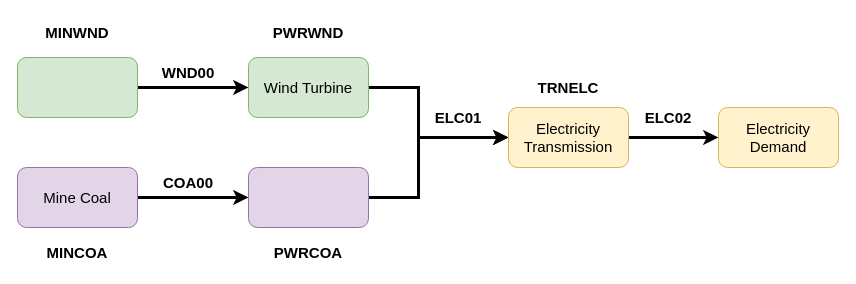
The diagram is 856 pixels wide and 284 high, and some of its shapes have lost their labels. The centre of each missing label's shape, as x and y in pixels:
Coal Power Plant: pixel 308 197
Mine Wind: pixel 77 87
